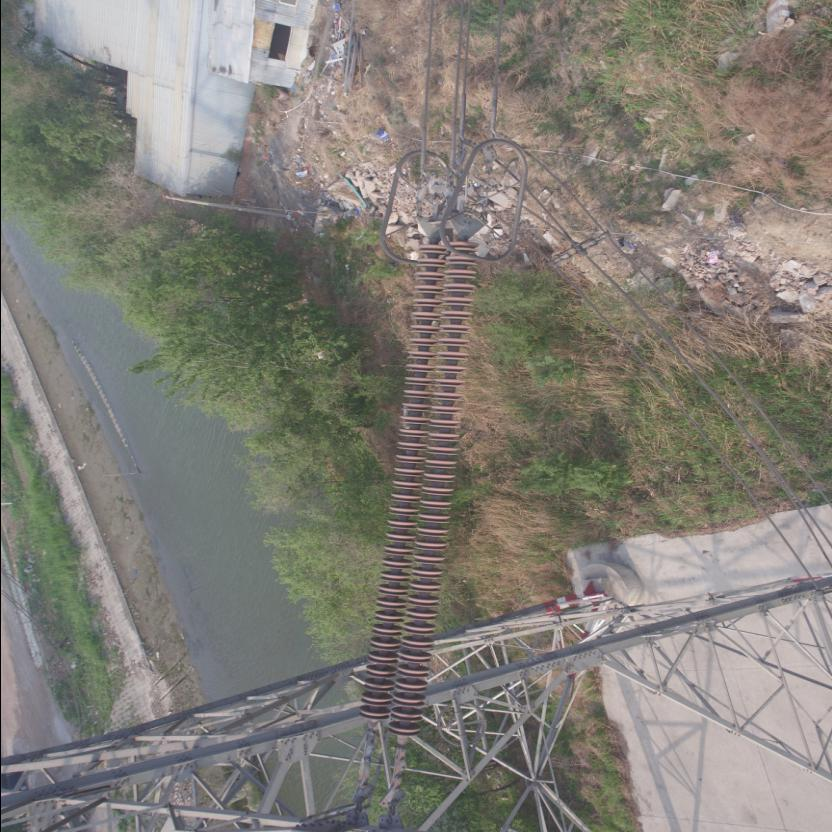insulator: (354, 228, 481, 756)
